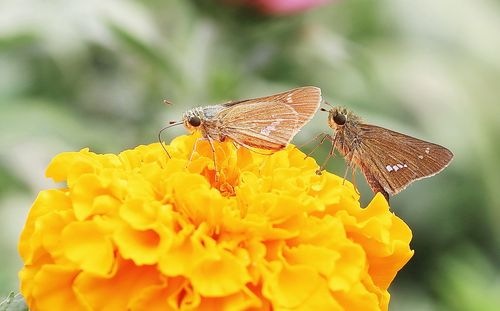Hesperiidae: (156, 78, 323, 164), (305, 104, 455, 198)
